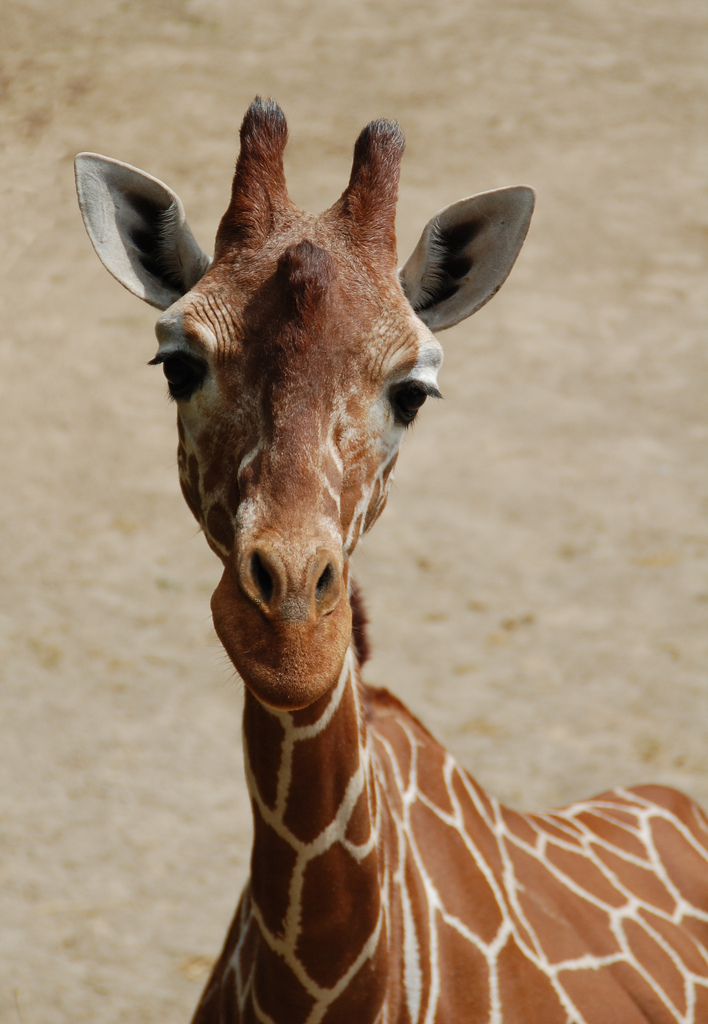giraffe: (66, 73, 679, 980)
